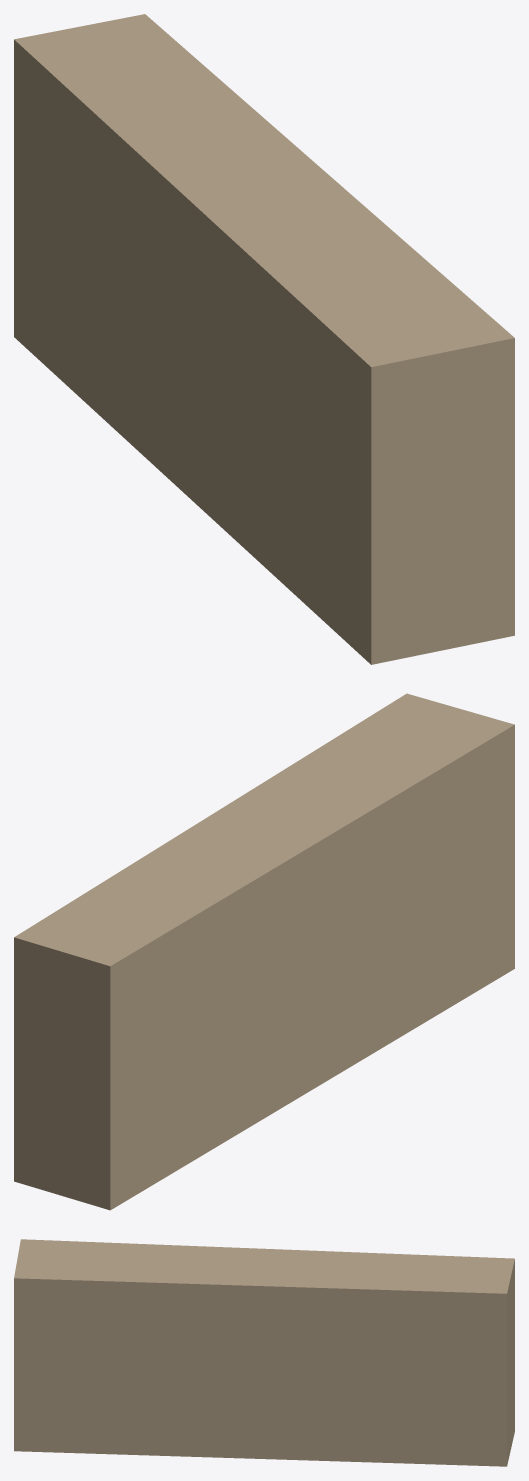
The model's file is bld_98640368.dae.
The picture shows the model from 3 angles, top to bottom: view 1: azimuth 30°, elevation 25°; view 2: azimuth 150°, elevation 25°; view 3: azimuth 270°, elevation 25°; orthographic projection. The views are drawn at different scales.
Parts seen in each view (by area): view 1: Timpson; view 2: Timpson; view 3: Timpson.
Boxes of the visible parts, bbox=[...] form: Timpson: bbox=[14, 14, 514, 664]; Timpson: bbox=[14, 693, 514, 1210]; Timpson: bbox=[14, 1239, 514, 1466].
Size of the model in its own units: 5.41 by 21.01 by 8.
